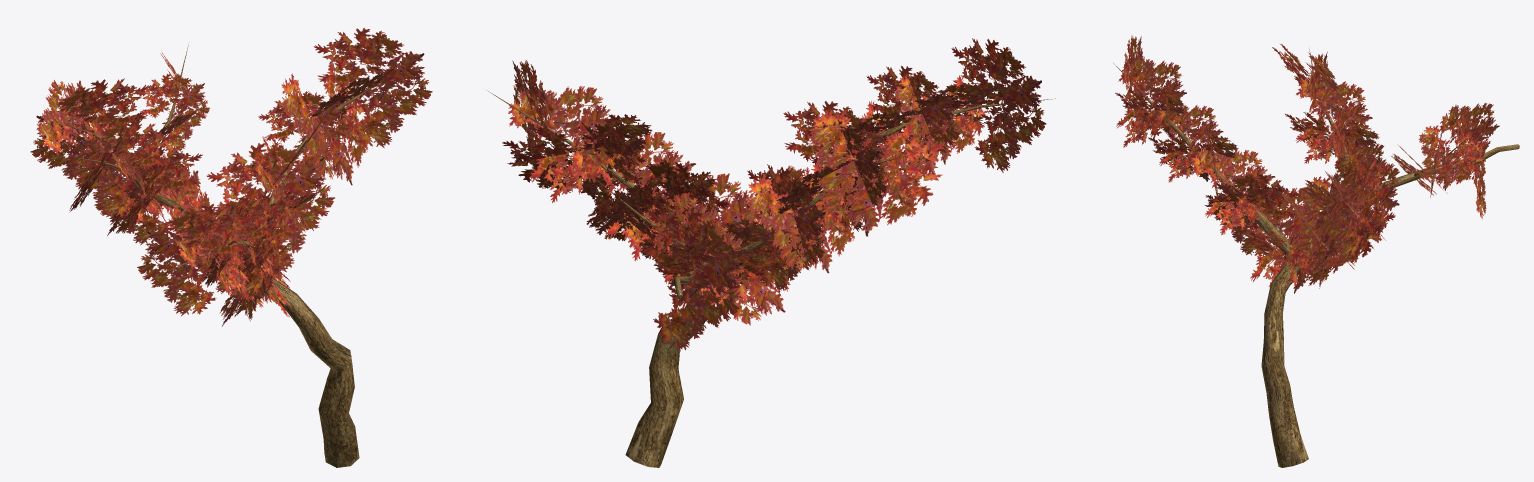
File: Tree06.FBX
3 views of the same model, side by side, from view 1: azimuth 30°, elevation 25°; view 2: azimuth 150°, elevation 25°; view 3: azimuth 270°, elevation 25° (orthographic). The views are drawn at different scales.
Visible parts, largest first — view 1: Plane55, Plane46, Plane49, Cylinder07, Plane61, Plane69, Plane53, Plane58, Plane65, Plane68, Plane52, Plane43 (+14 smaller); view 2: Plane62, Plane69, Plane46, Plane54, Cylinder07, Plane59, Plane53, Plane58, Plane43, Plane51, Plane44, Plane68 (+18 smaller); view 3: Cylinder07, Plane60, Plane55, Plane39, Plane45, Plane53, Plane36, Plane37, Plane66, Plane42, Plane50, Plane68 (+14 smaller).
Boxes of the visible parts, x1,y1,x2,y2 form: Plane55: (313, 28, 432, 148); Plane46: (137, 203, 253, 316); Plane49: (206, 142, 334, 272); Cylinder07: (49, 110, 359, 467); Plane61: (72, 119, 173, 217); Plane69: (30, 78, 149, 189); Plane53: (281, 63, 368, 185); Plane58: (94, 146, 202, 245); Plane65: (137, 73, 209, 152); Plane68: (36, 80, 118, 170); Plane52: (258, 91, 351, 175); Plane43: (191, 196, 280, 293); Plane62: (808, 109, 945, 236); Plane69: (642, 204, 743, 351); Plane46: (951, 38, 1046, 172); Plane54: (508, 86, 620, 202); Cylinder07: (625, 261, 709, 467); Plane59: (745, 164, 857, 273); Plane53: (502, 114, 652, 198); Plane58: (745, 164, 825, 292); Plane43: (866, 65, 960, 175); Plane51: (571, 131, 696, 260); Plane44: (893, 73, 987, 164); Plane68: (658, 239, 777, 288); Cylinder07: (1261, 144, 1519, 467); Plane60: (1295, 72, 1372, 163); Plane55: (1320, 158, 1389, 260); Plane39: (1191, 147, 1275, 234); Plane45: (1116, 55, 1186, 147); Plane53: (1315, 148, 1395, 260); Plane36: (1231, 187, 1317, 287); Plane37: (1210, 173, 1299, 256); Plane66: (1418, 125, 1487, 190); Plane42: (1155, 105, 1223, 182); Plane50: (1298, 176, 1388, 272); Plane68: (1439, 103, 1499, 188).
Size of the model in its own units: 420 by 403 by 436.
Materials: 2 (2 with a texture image).
